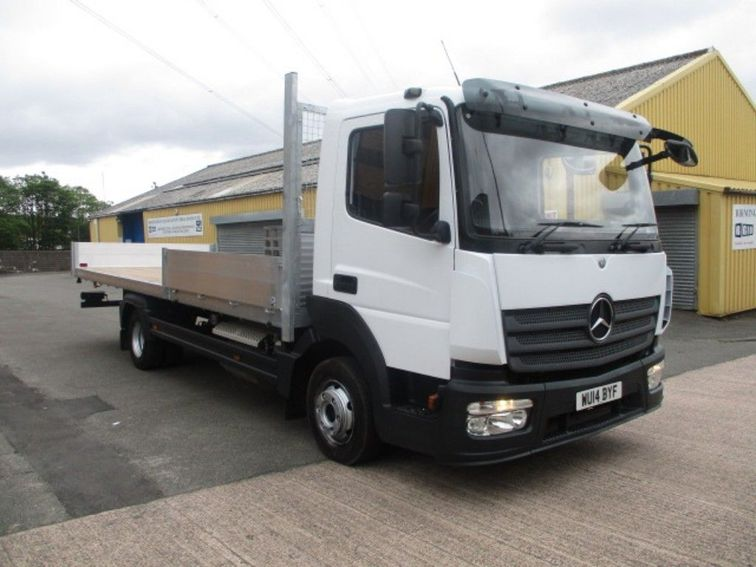Semi: (76, 76, 672, 467)
